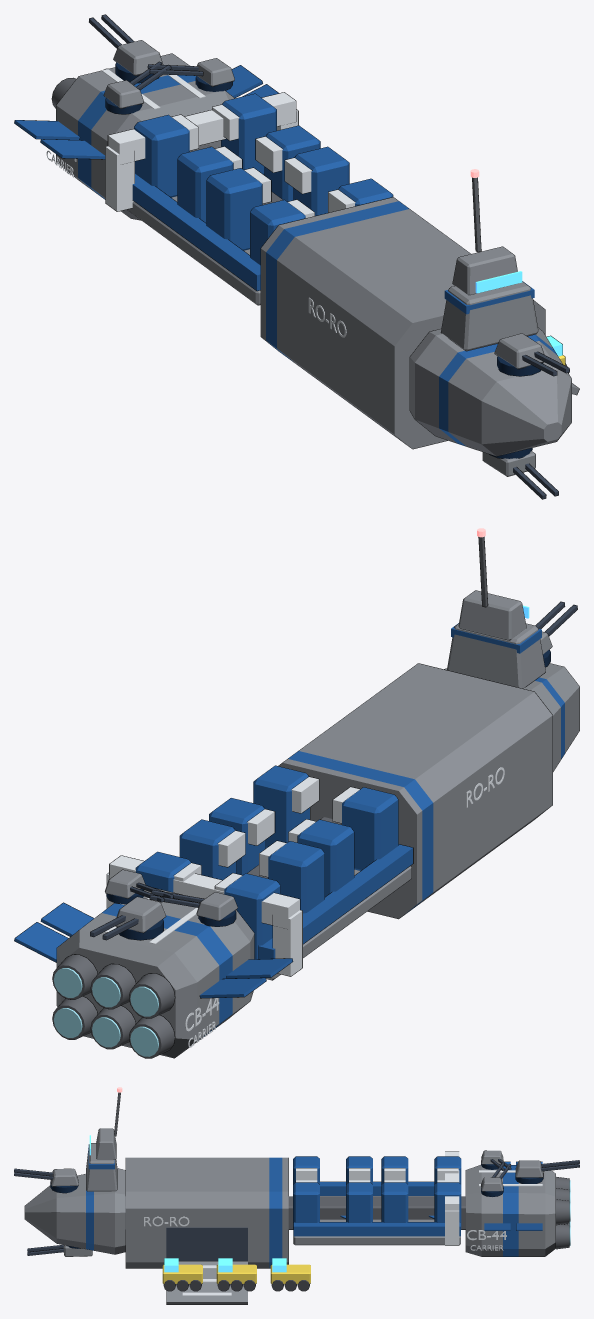
The model's file is Cargo_Capital_Carrier.fbx.
The picture shows the model from 3 angles, top to bottom: view 1: azimuth 30°, elevation 25°; view 2: azimuth 150°, elevation 25°; view 3: azimuth 270°, elevation 25°; orthographic projection. The views are drawn at different scales.
Visible parts, largest first — view 1: RoRo_Hangar, Bow.003, Engine.003, Bridge_A.003, Cradle_Rail-, Clamp0-10.3, Clamp1-10.3, Cradle_Arch, Clamp1-1-0.3, Clamp110.3, Clamp010.3, Bridge_B.003 (+16 smaller); view 2: RoRo_Hangar, Engine.003, Bridge_A.003, Cradle_Rail-, Clamp0-1-0.3, Clamp1-1-0.3, Bow.003, Clamp01-0.3, Clamp0-10.3, Bridge_B.003, Cradle_Arch, Clamp11-0.3 (+27 smaller); view 3: RoRo_Hangar, Engine.003, Bow.003, RoRo_Opening, Cradle_Rail+, Spine.003, Cradle_Deck, RoRo_Ramp, Clamp11-0.3, Clamp01-0.3, Clamp010.3, Bridge_A.003 (+17 smaller).
Part boxes in pixels (left/top/right/bottom): RoRo_Hangar: left=260, top=197, right=545, bottom=449; Bow.003: left=409, top=327, right=571, bottom=456; Engine.003: left=56, top=53, right=234, bottom=220; Bridge_A.003: left=440, top=281, right=538, bottom=351; Cradle_Rail-: left=132, top=174, right=260, bottom=291; Clamp0-10.3: left=206, top=168, right=262, bottom=250; Clamp1-10.3: left=134, top=114, right=189, bottom=197; Cradle_Arch: left=107, top=92, right=296, bottom=164; Clamp1-1-0.3: left=177, top=146, right=233, bottom=222; Clamp110.3: left=221, top=93, right=276, bottom=174; Clamp010.3: left=293, top=146, right=349, bottom=215; Bridge_B.003: left=452, top=246, right=517, bottom=295; RoRo_Hangar: left=278, top=663, right=552, bottom=919; Engine.003: left=56, top=888, right=254, bottom=1058; Bridge_A.003: left=447, top=623, right=545, bottom=688; Cradle_Rail-: left=258, top=844, right=413, bottom=958; Clamp0-1-0.3: left=341, top=787, right=398, bottom=870; Clamp1-1-0.3: left=268, top=841, right=324, bottom=913; Bow.003: left=444, top=663, right=579, bottom=771; Clamp01-0.3: left=253, top=765, right=310, bottom=847; Clamp0-10.3: left=297, top=819, right=354, bottom=896; Bridge_B.003: left=458, top=590, right=526, bottom=640; Cradle_Arch: left=109, top=855, right=300, bottom=929; Clamp11-0.3: left=179, top=819, right=236, bottom=879; RoRo_Hangar: left=125, top=1157, right=288, bottom=1268; Engine.003: left=465, top=1165, right=555, bottom=1256; Bow.003: left=24, top=1168, right=125, bottom=1254; RoRo_Opening: left=166, top=1227, right=247, bottom=1260; Cradle_Rail+: left=293, top=1222, right=460, bottom=1236; Spine.003: left=125, top=1196, right=465, bottom=1229; Cradle_Deck: left=293, top=1196, right=460, bottom=1245; RoRo_Ramp: left=166, top=1261, right=247, bottom=1304; Clamp11-0.3: left=381, top=1182, right=408, bottom=1222; Clamp01-0.3: left=293, top=1182, right=319, bottom=1229; Clamp010.3: left=346, top=1182, right=372, bottom=1222; Bridge_A.003: left=86, top=1143, right=117, bottom=1191.
Bounding box in the file's own units: 119 × 127 × 373.
